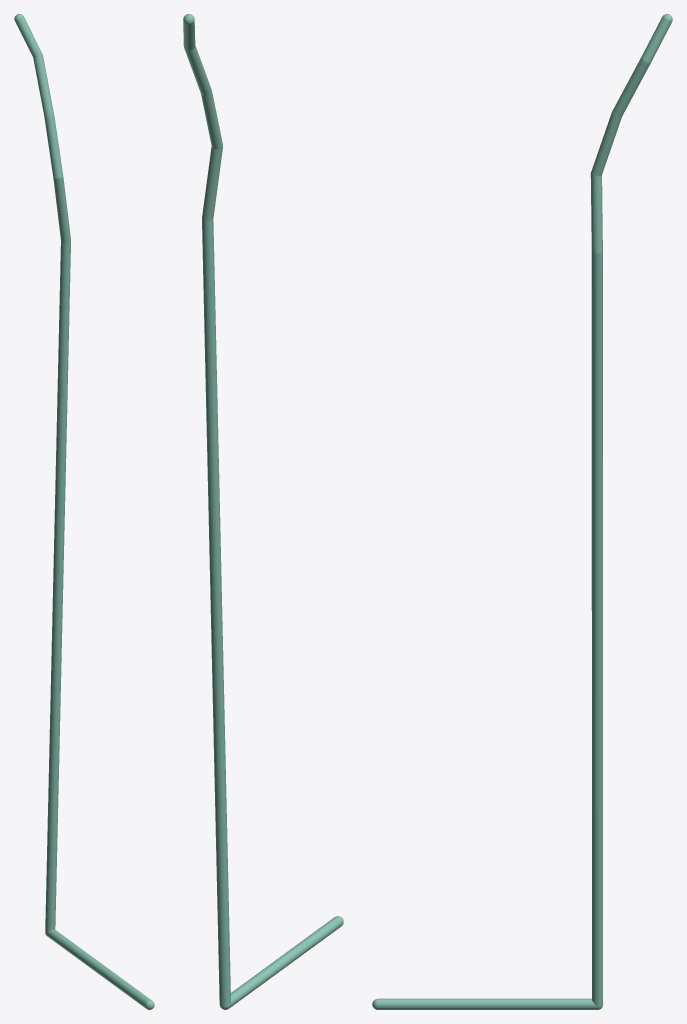
The model's file is pipe_model (9).glb.
The picture shows the model from 3 angles, left to right: view 1: azimuth 30°, elevation 25°; view 2: azimuth 150°, elevation 25°; view 3: azimuth 270°, elevation 25°; orthographic projection. The views are drawn at different scales.
Visible parts, largest first — view 1: world; view 2: world; view 3: world.
Boxes of the visible parts, x1,y1,x2,y2 form: world: (14, 14, 154, 1009); world: (183, 14, 343, 1009); world: (372, 14, 672, 1009).
Size of the model in its own units: 83.54 by 2934 by 803.
